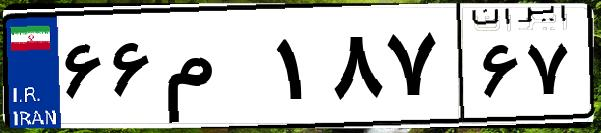1: (270, 28, 330, 110)
6: (57, 26, 110, 100), (475, 38, 525, 113), (110, 28, 158, 98)
7: (385, 28, 445, 110), (525, 38, 570, 115)
8: (330, 28, 385, 110)
م: (158, 20, 270, 120)
